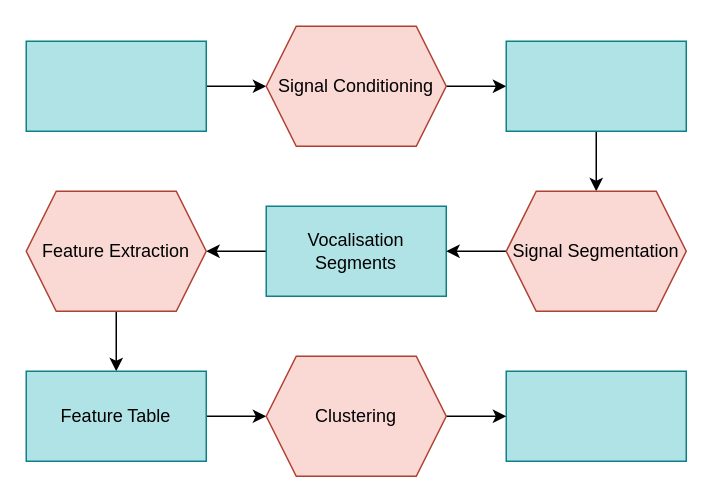
Some shapes in this 713 by 503 pixel diagram are drawn without their labels. Each missing label, with the centre of its shape:
Cluster Outputs: point 595,415
Conditioned Recordings: point 595,85
Laboratory Recordings: point 115,85
